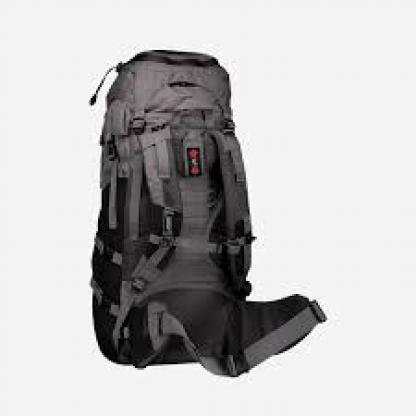morral: (64, 26, 346, 390)
